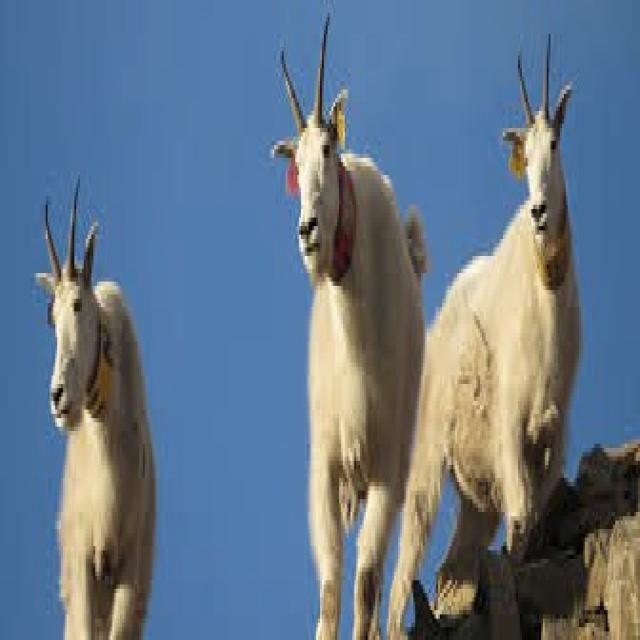goat: (389, 34, 579, 636), (272, 17, 425, 636), (36, 183, 154, 636)
